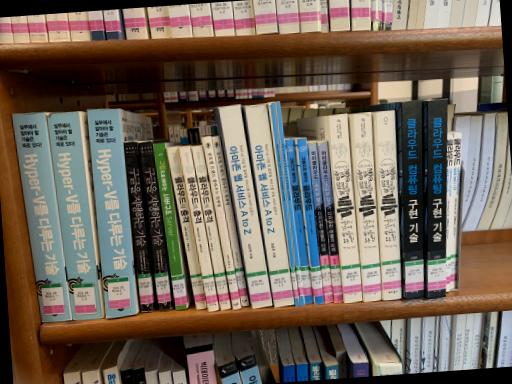book-spine: (12, 112, 72, 322), (47, 111, 103, 320), (218, 104, 272, 309), (87, 109, 137, 318), (245, 104, 294, 308), (178, 146, 219, 312), (202, 136, 241, 309), (328, 114, 363, 304), (211, 135, 249, 307), (191, 145, 230, 311), (167, 147, 206, 310), (275, 101, 305, 306), (269, 102, 299, 306), (352, 113, 382, 302), (138, 141, 171, 312), (154, 143, 186, 310), (374, 111, 401, 301), (124, 140, 153, 312), (285, 138, 313, 303), (296, 138, 323, 304), (402, 100, 424, 300), (308, 142, 333, 304), (318, 141, 343, 302), (427, 99, 447, 299), (451, 132, 461, 290), (445, 134, 454, 293)
